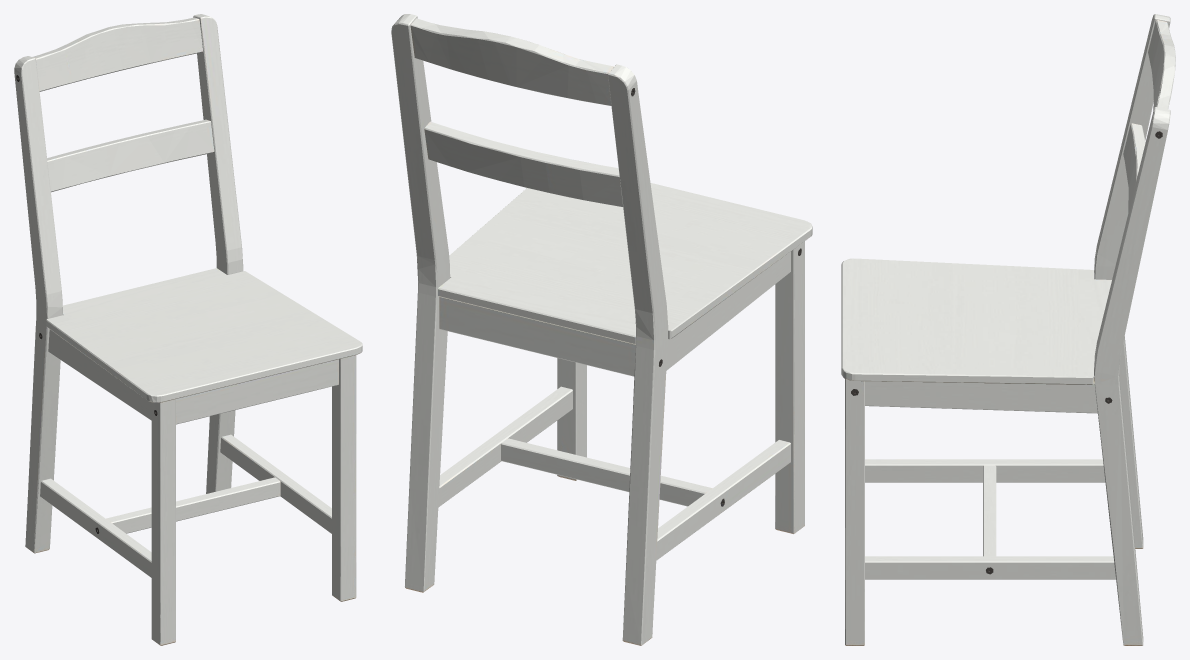
3 renders of one model, left to right at view 1: azimuth 30°, elevation 25°; view 2: azimuth 150°, elevation 25°; view 3: azimuth 270°, elevation 25°, orthographic. The views are drawn at different scales.
Parts seen in each view (by area): view 1: ASY_ART_10576718_S01_NV01_NODE_ID_31be0f71-dbae-45ea-9ed5-79; view 2: ASY_ART_10576718_S01_NV01_NODE_ID_31be0f71-dbae-45ea-9ed5-79; view 3: ASY_ART_10576718_S01_NV01_NODE_ID_31be0f71-dbae-45ea-9ed5-79.
Part boxes in pixels (x1,y1,x2,y2): ASY_ART_10576718_S01_NV01_NODE_ID_31be0f71-dbae-45ea-9ed5-79: [14, 14, 362, 645]; ASY_ART_10576718_S01_NV01_NODE_ID_31be0f71-dbae-45ea-9ed5-79: [391, 14, 812, 645]; ASY_ART_10576718_S01_NV01_NODE_ID_31be0f71-dbae-45ea-9ed5-79: [841, 14, 1175, 645].
Size of the model in its own units: 0.4 by 0.87 by 0.49.
1 material, 1 textured.
